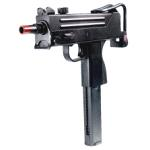rifle: (13, 6, 142, 146)
